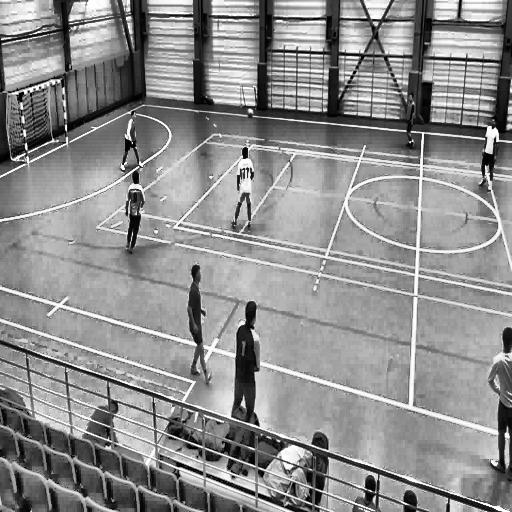ball: (245, 103, 255, 121)
player: (485, 321, 512, 483), (184, 262, 216, 391), (230, 300, 259, 423), (124, 169, 148, 264), (230, 146, 254, 235), (476, 113, 500, 195), (122, 106, 144, 174), (402, 86, 421, 152)
